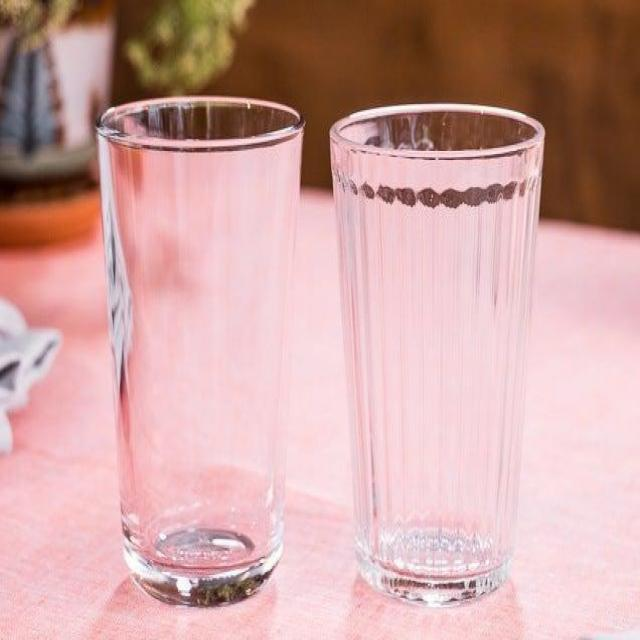glass-normal: (327, 101, 547, 607), (94, 94, 307, 608)
